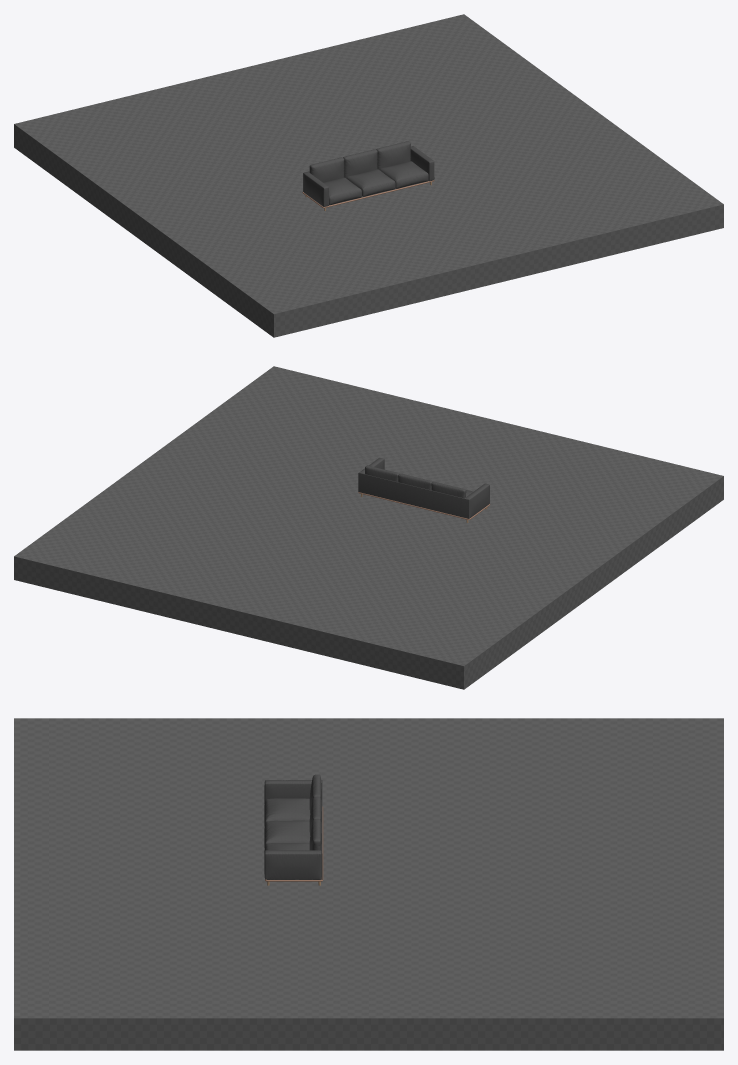
Rendered from couch.gltf.
3 renders of one model, top to bottom at view 1: azimuth 30°, elevation 25°; view 2: azimuth 150°, elevation 25°; view 3: azimuth 270°, elevation 25°, orthographic. The views are drawn at different scales.
Visible parts, largest first — view 1: Floor, SM_Couch_2; view 2: Floor, SM_Couch_2; view 3: Floor, SM_Couch_2.
Part boxes in pixels (x1=…): Floor: x1=14, y1=14, x2=723, y2=337; SM_Couch_2: x1=302, y1=141, x2=434, y2=210; Floor: x1=14, y1=366, x2=723, y2=689; SM_Couch_2: x1=358, y1=457, x2=490, y2=522; Floor: x1=14, y1=718, x2=723, y2=1050; SM_Couch_2: x1=264, y1=774, x2=323, y2=885.
Bounding box in the file's own units: 10 × 1.17 × 10.
4 materials, 3 textured.
